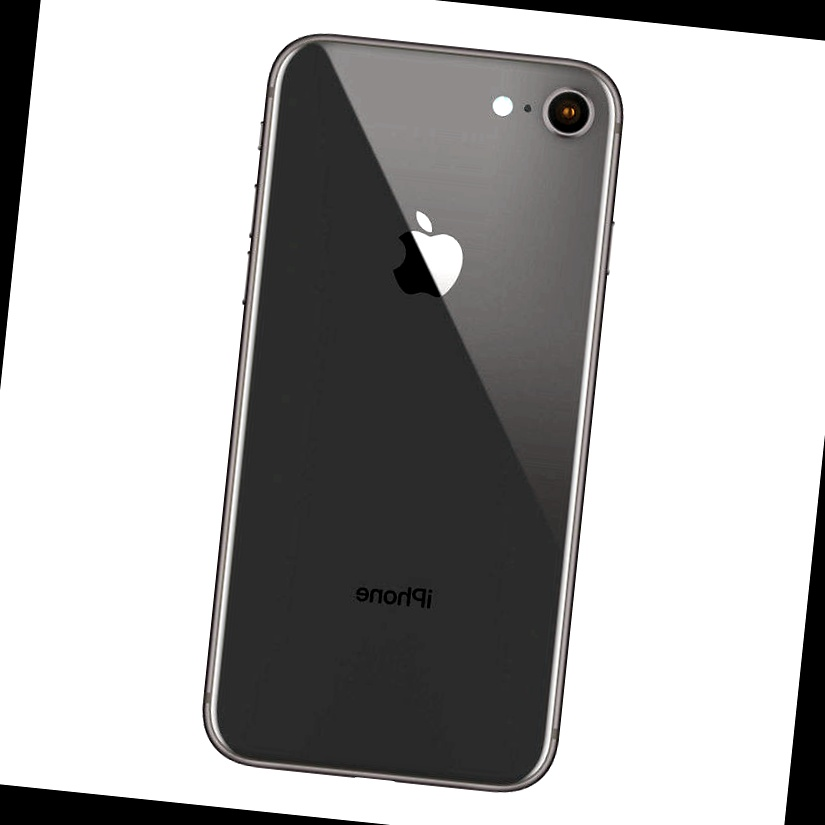iphone: (230, 44, 596, 778)
